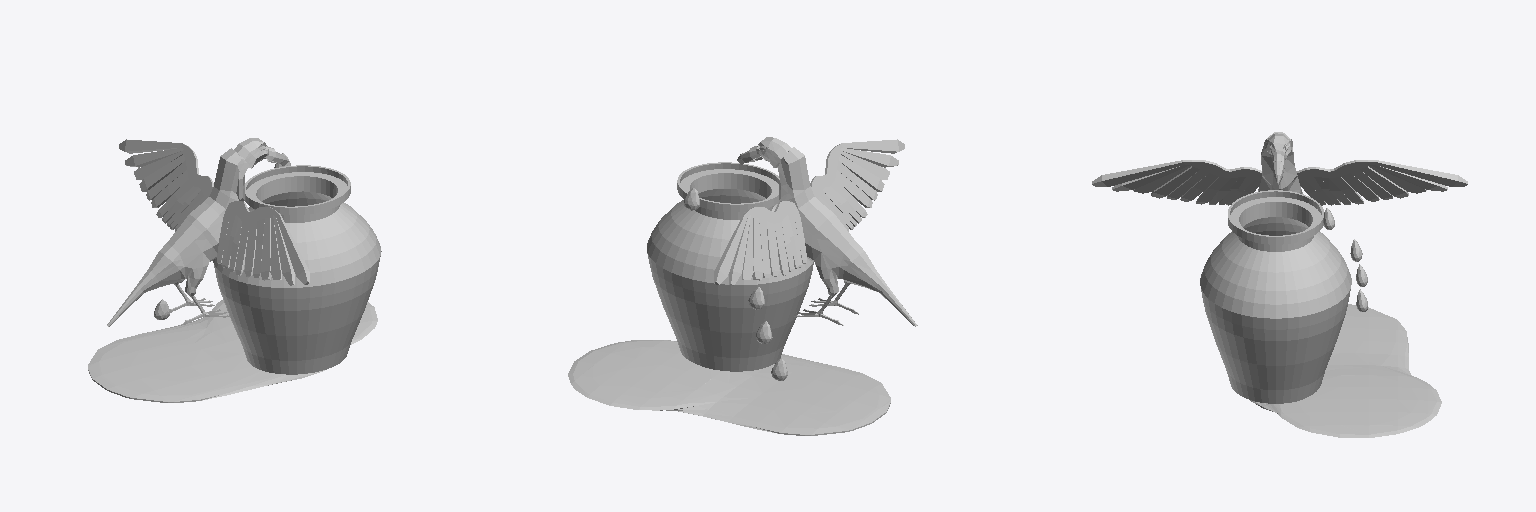
The model's file is bheegahuakaua12.obj.
The picture shows the model from 3 angles: view 1: azimuth 30°, elevation 25°; view 2: azimuth 150°, elevation 25°; view 3: azimuth 270°, elevation 25°; orthographic projection.
Parts seen in each view (by area): view 1: Circle, Cylinder, Mball; view 2: Circle, Mball, Cylinder; view 3: Circle, Mball, Cylinder.
Part boxes in pixels (left/top/right/bottom): Circle: left=213, top=165, right=381, bottom=374; Cylinder: left=107, top=138, right=309, bottom=326; Mball: left=88, top=300, right=377, bottom=402; Circle: left=647, top=162, right=813, bottom=371; Mball: left=568, top=340, right=890, bottom=435; Cylinder: left=714, top=137, right=917, bottom=326; Circle: left=1200, top=190, right=1351, bottom=403; Mball: left=1250, top=304, right=1441, bottom=437; Cylinder: left=1092, top=132, right=1467, bottom=205.
Bounding box in the file's own units: 1.18 × 0.8867 × 1.28.